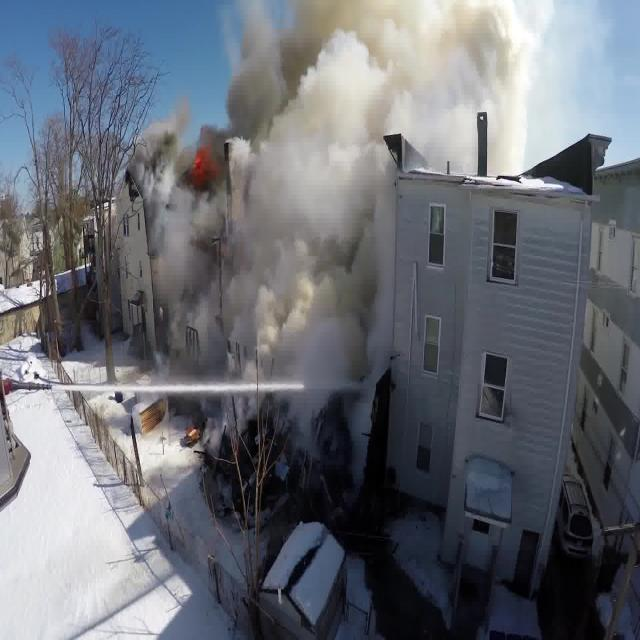smoke: (263, 36, 369, 364), (378, 6, 522, 154)
